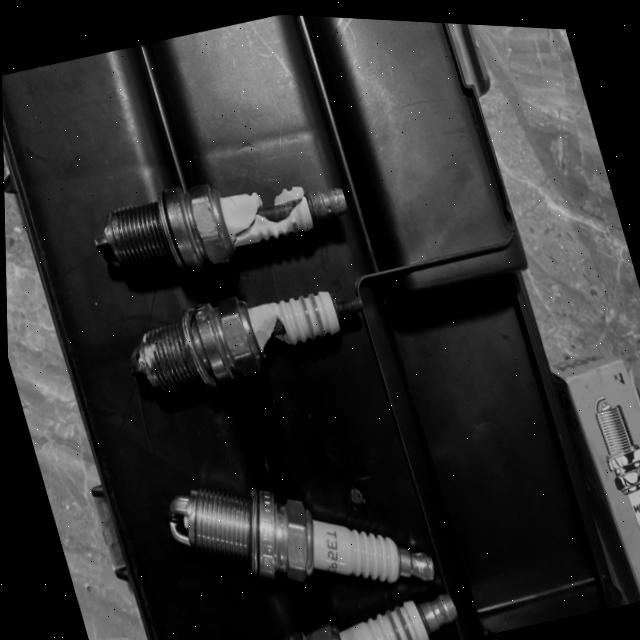damaged_spark-plug: (74, 132, 362, 302), (105, 250, 382, 412)
spark-plug: (154, 470, 437, 592)
